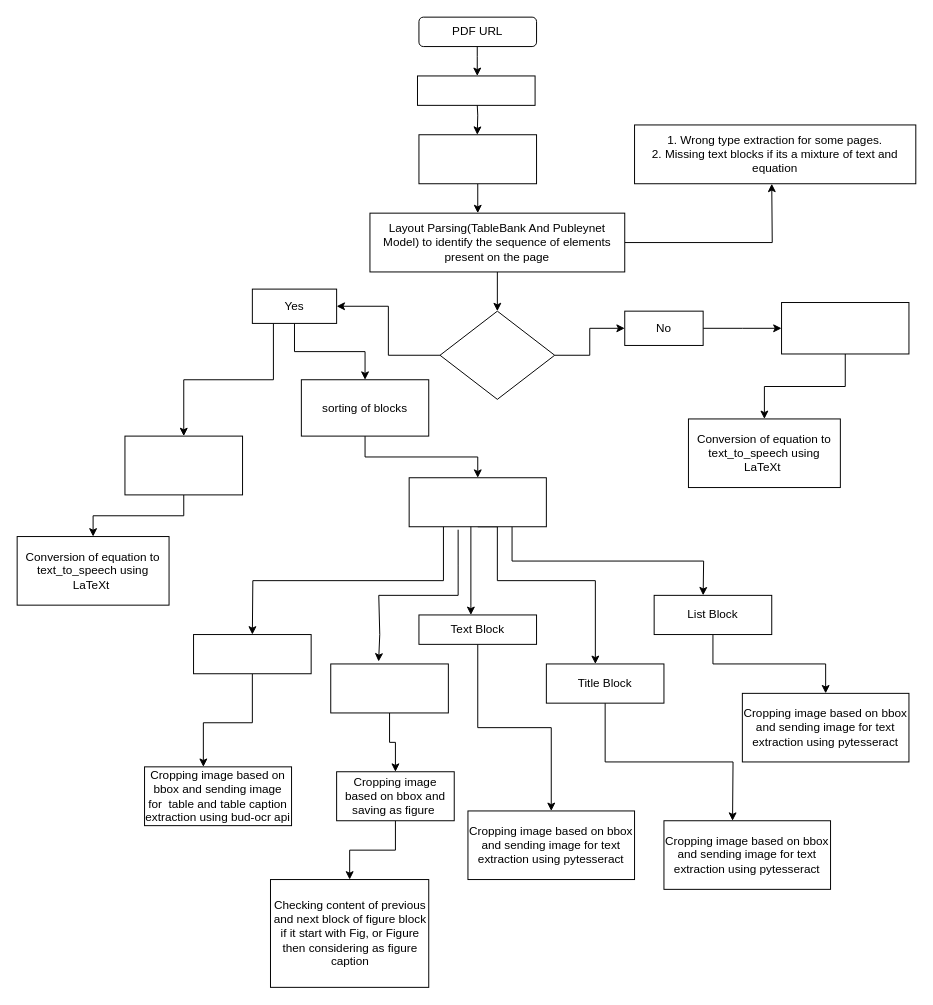
Image size: 933x1005. Some labels were removed from this diagram. Here are the shapes that lost their labels. From the top down, the centre of each, then its label:
At pixel 475 90: "Download pdf from aws".
At pixel 477 159: "Conversion of Pdf pages Into Images using PyMuPDF".
At pixel 845 328: "Text and equation extraction using nougat".
At pixel 497 354: "Table Or Figure Block Detected?".
At pixel 183 465: "equation extraction using nougat".
At pixel 477 502: "Extracting different block data".
At pixel 252 654: "Table Block".
At pixel 389 688: "Figure Block".
